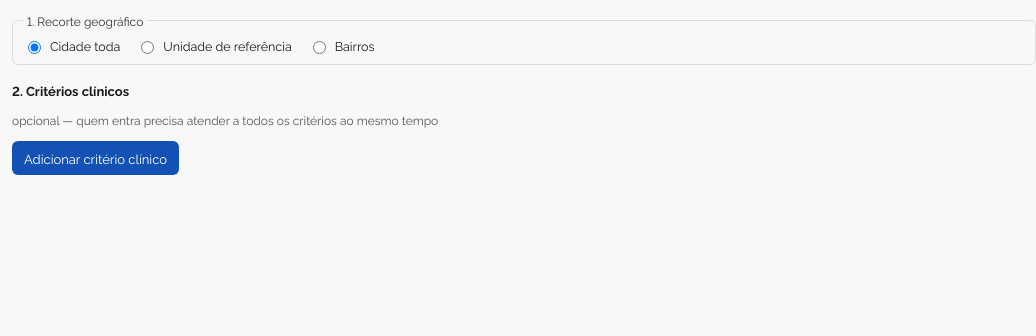
Test: AudienceBuilder — critérios › adicionar abre os 7 tipos e cria o cartão com o período padrão
Click the button "Adicionar critério clínico" at (96, 158), box [12,141,179,175]
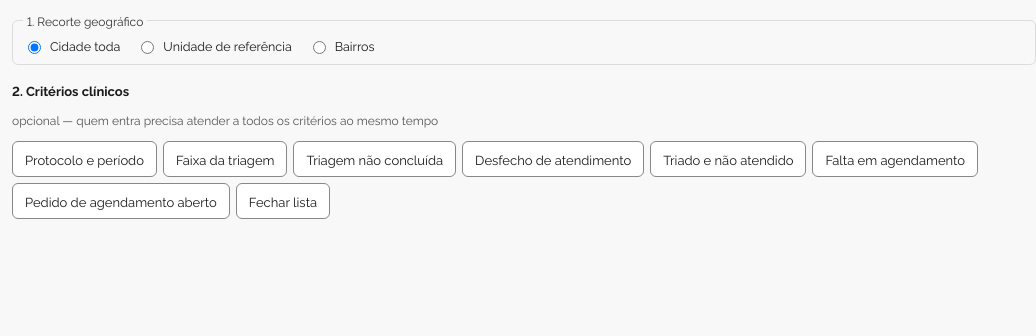
Click the button "Falta em agendamento" at (895, 159), box [812,141,978,177]
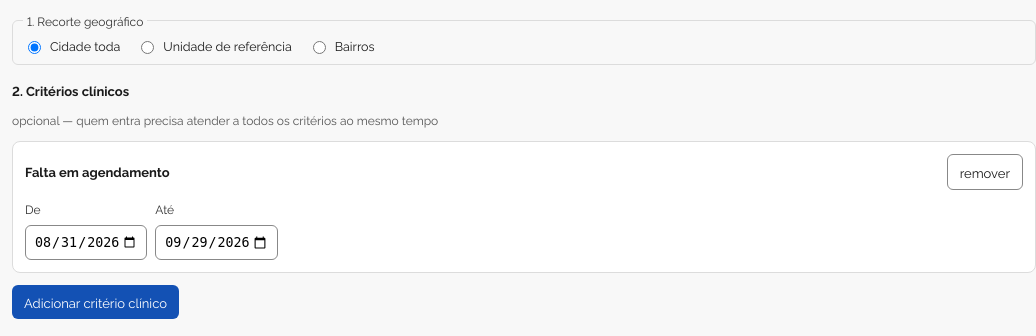
Result: the date field labelled "De" holds "2026-08-31" at [25,225,147,260]
Result: the date field labelled "Até" holds "2026-09-29" at [155,225,278,260]
